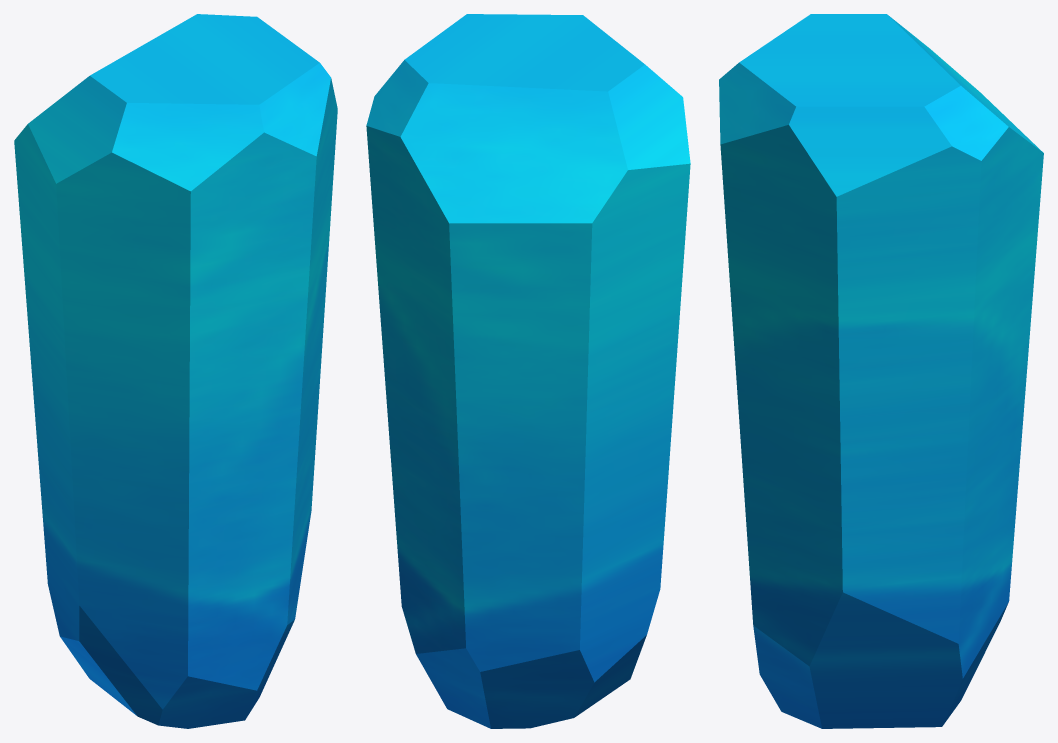
Rendered from Crystal9.obj.
The picture shows the model from 3 angles, left to right: view 1: azimuth 30°, elevation 25°; view 2: azimuth 150°, elevation 25°; view 3: azimuth 270°, elevation 25°; orthographic projection. The views are drawn at different scales.
Visible parts, largest first — view 1: obj1; view 2: obj1; view 3: obj1.
Boxes of the visible parts, x1,y1,x2,y2 form: obj1: (14, 14, 337, 728); obj1: (366, 14, 690, 728); obj1: (719, 14, 1043, 728).
Size of the model in its own units: 4.02 by 8.62 by 3.93.
1 material, 1 textured.
